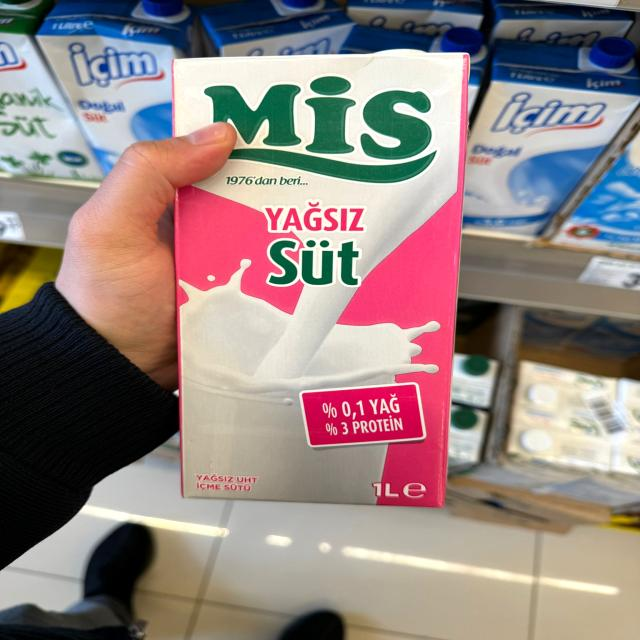milk: (178, 62, 454, 508)
